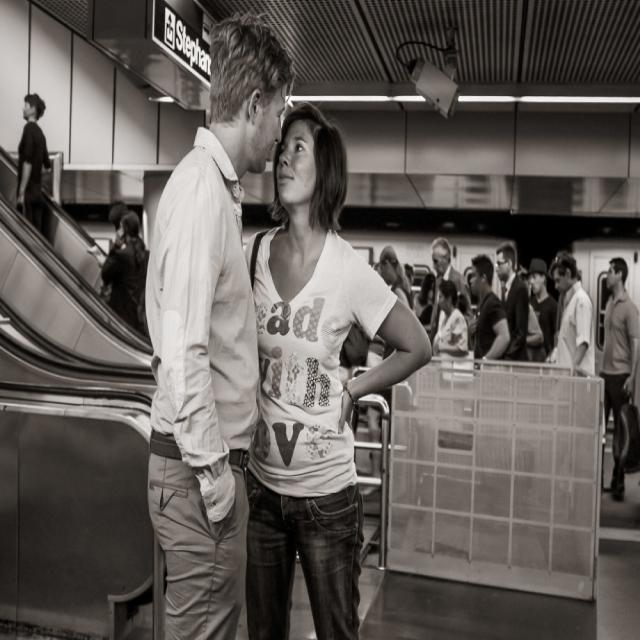body: (235, 97, 436, 639), (136, 4, 298, 639), (596, 254, 639, 500), (343, 246, 385, 475), (547, 248, 597, 378), (100, 211, 150, 338), (427, 235, 477, 353), (466, 252, 512, 374), (14, 91, 53, 231), (85, 200, 131, 312), (493, 241, 530, 361), (526, 258, 559, 357), (430, 278, 470, 359), (377, 244, 415, 314), (520, 264, 546, 348), (459, 264, 481, 356), (556, 268, 586, 327), (412, 271, 439, 334), (405, 262, 414, 305)
